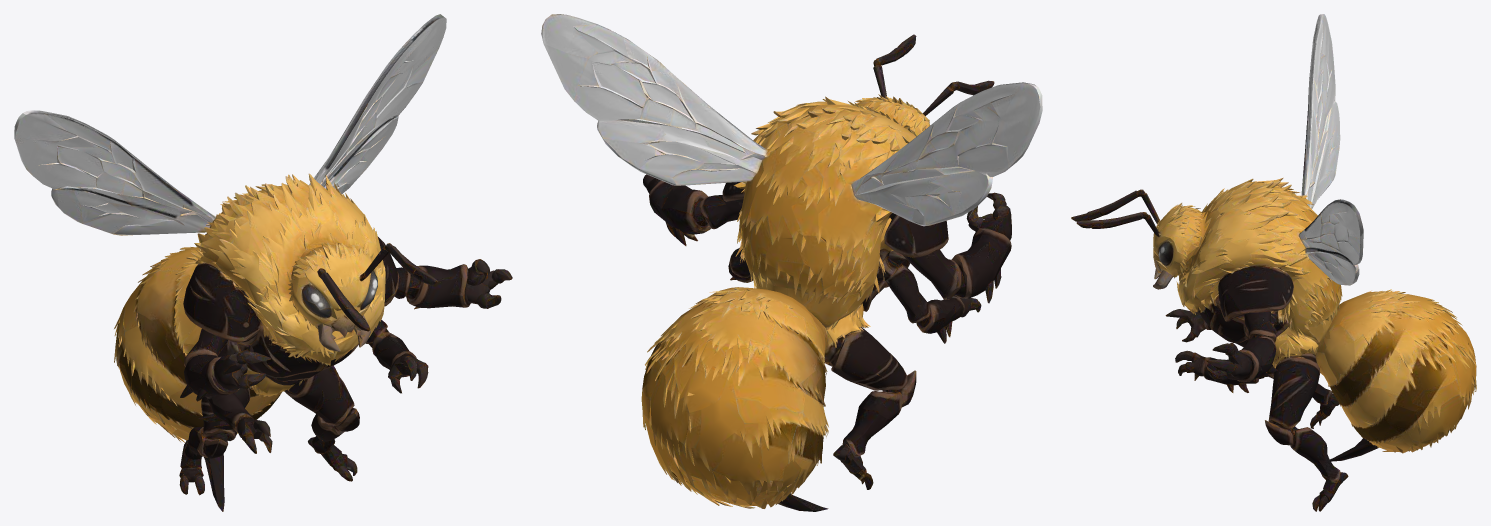
File: bee.glb
The picture shows the model from 3 angles, left to right: view 1: azimuth 30°, elevation 25°; view 2: azimuth 150°, elevation 25°; view 3: azimuth 270°, elevation 25°; orthographic projection. The views are drawn at different scales.
Visible parts, largest first — view 1: torso, wing_R, gaster, head, wing_L, arm_RU_upper, leg_L_thigh, hand_LU, leg_R_thigh, arm_LU_upper, hand_RU, arm_LU_lower (+7 smaller); view 2: gaster, torso, wing_L, wing_R, arm_RU_upper, leg_R_thigh, head, arm_LU_upper, arm_RL_upper, leg_R_shin, leg_R_foot, arm_RU_lower (+2 smaller); view 3: gaster, torso, wing_R, head, wing_L, leg_L_thigh, arm_LU_upper, hand_LU, leg_L_foot, leg_L_shin, hand_RL, arm_LU_lower (+2 smaller).
Part boxes in pixels (x1,y1,x2,y2): torso: [166, 173, 388, 396]; wing_R: [14, 110, 210, 235]; gaster: [114, 247, 298, 493]; head: [245, 242, 411, 362]; wing_L: [309, 14, 446, 193]; arm_RU_upper: [180, 285, 248, 397]; leg_L_thigh: [289, 365, 359, 431]; hand_LU: [451, 259, 512, 308]; leg_R_thigh: [188, 388, 250, 458]; arm_LU_upper: [381, 240, 431, 309]; hand_RU: [207, 351, 265, 395]; arm_LU_lower: [424, 265, 467, 308]; gaster: [641, 283, 885, 510]; torso: [722, 96, 977, 352]; wing_L: [541, 14, 762, 185]; wing_R: [854, 82, 1042, 226]; arm_RU_upper: [930, 209, 1003, 303]; leg_R_thigh: [853, 327, 916, 422]; head: [854, 53, 1002, 200]; arm_LU_upper: [675, 184, 742, 245]; arm_RL_upper: [905, 291, 965, 343]; leg_R_shin: [842, 407, 898, 455]; leg_R_foot: [786, 450, 873, 511]; arm_RU_lower: [983, 199, 1011, 288]; gaster: [1296, 289, 1476, 460]; torso: [1182, 177, 1342, 376]; wing_R: [1301, 14, 1340, 208]; head: [1076, 189, 1202, 304]; wing_L: [1299, 199, 1363, 285]; leg_L_thigh: [1265, 359, 1319, 444]; arm_LU_upper: [1220, 280, 1285, 372]; hand_LU: [1205, 343, 1270, 381]; leg_L_foot: [1312, 457, 1348, 511]; leg_L_shin: [1282, 431, 1331, 471]; hand_RL: [1165, 309, 1205, 342]; arm_LU_lower: [1241, 337, 1275, 376].
Bounding box in the file's own units: 1.9 × 1.8 × 1.79.
1 material, 1 textured.
